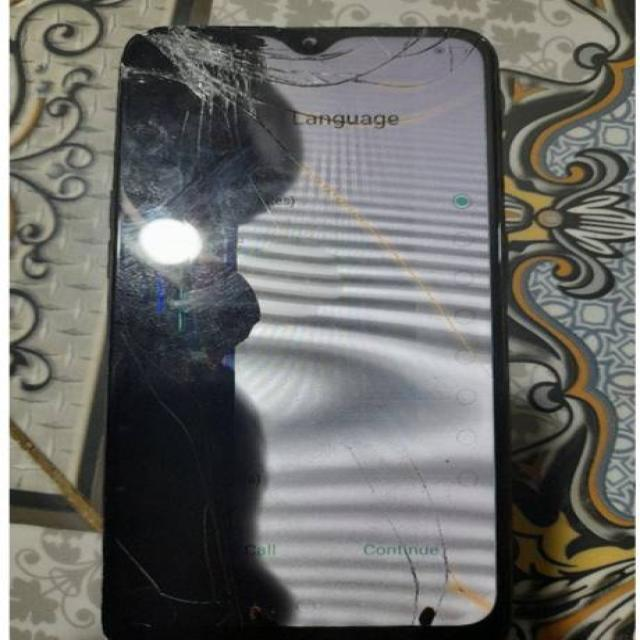phone: (128, 34, 510, 640)
